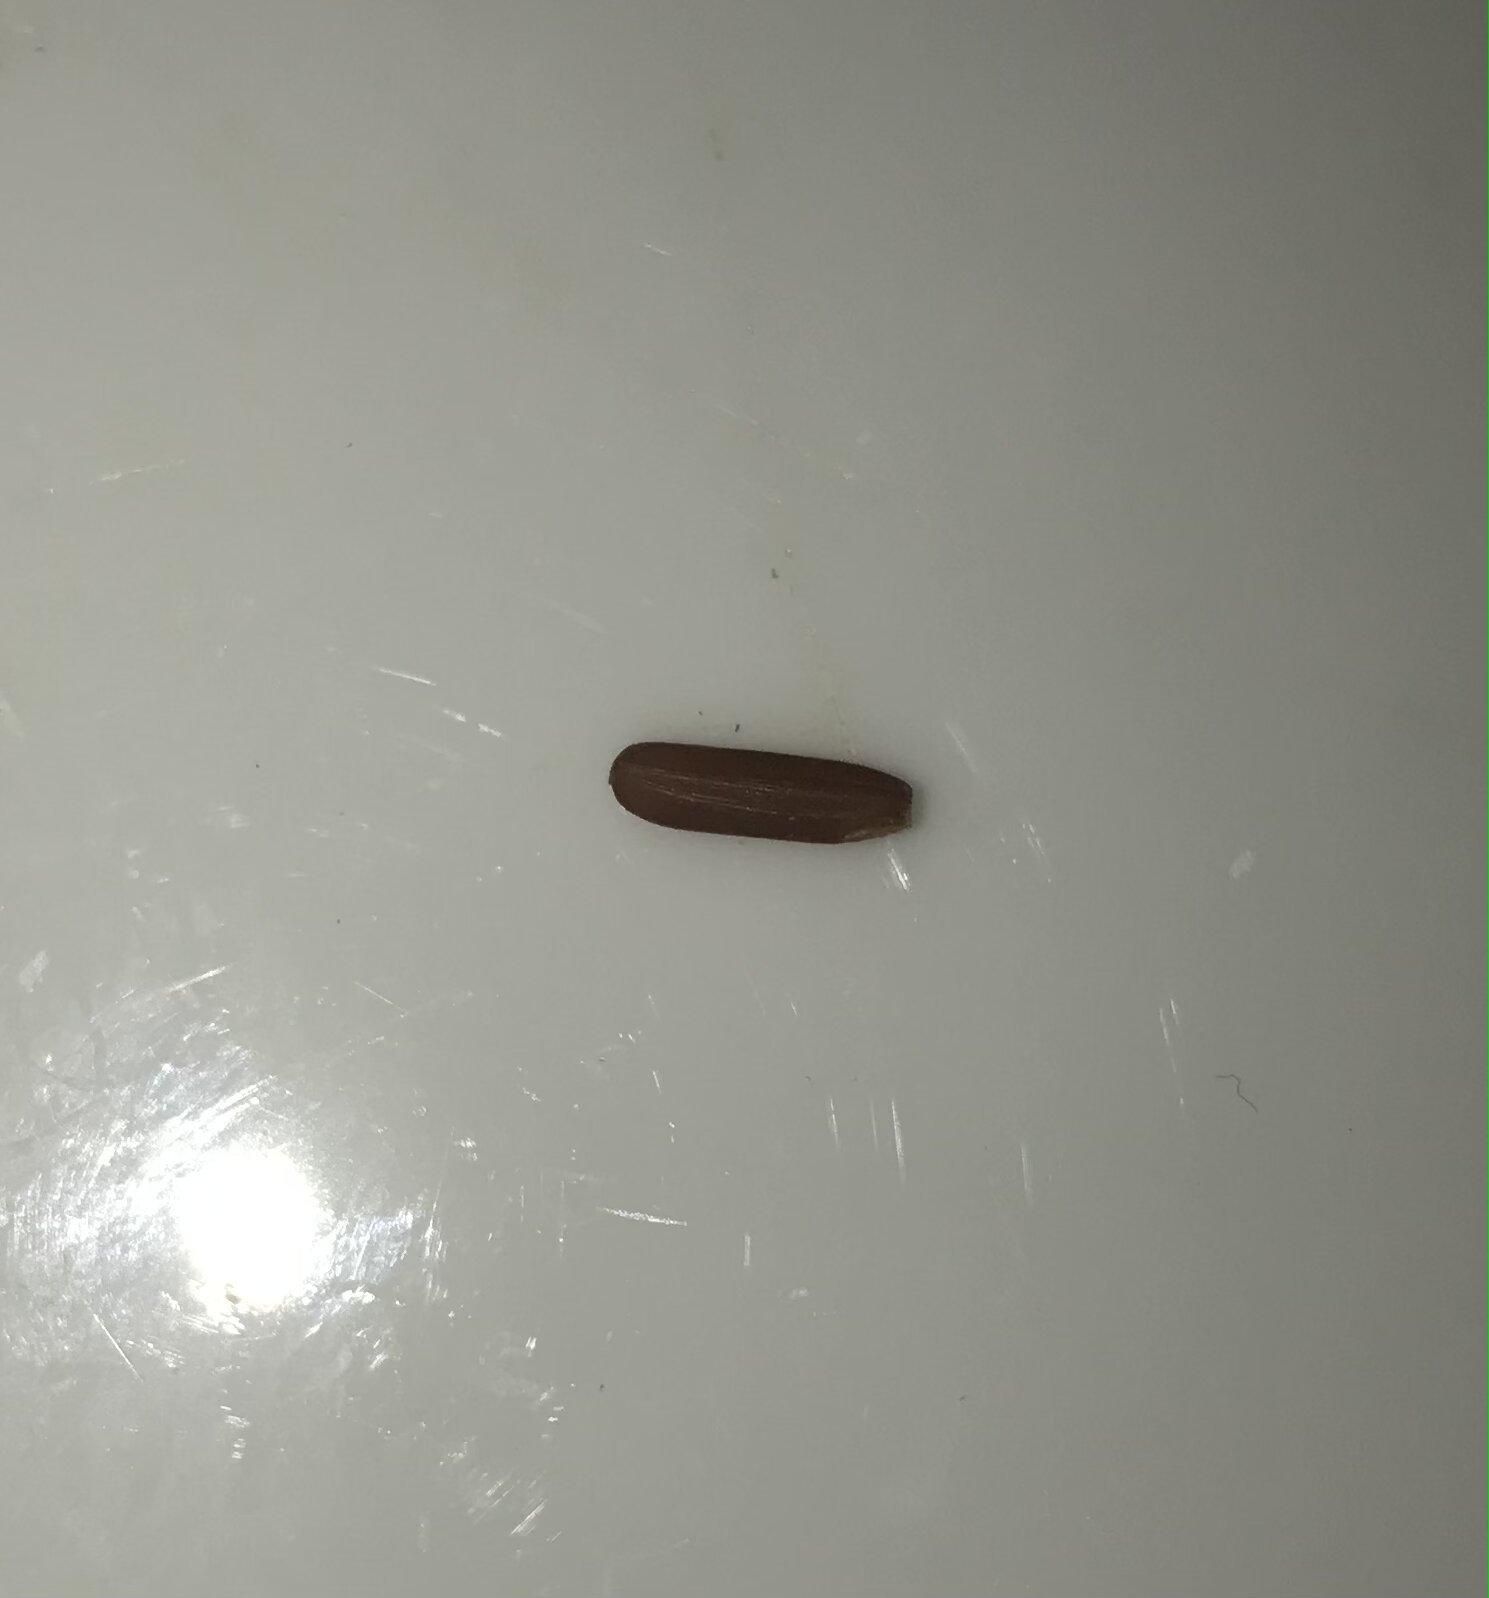Gao Huyet Rong: (600, 737, 921, 861)
